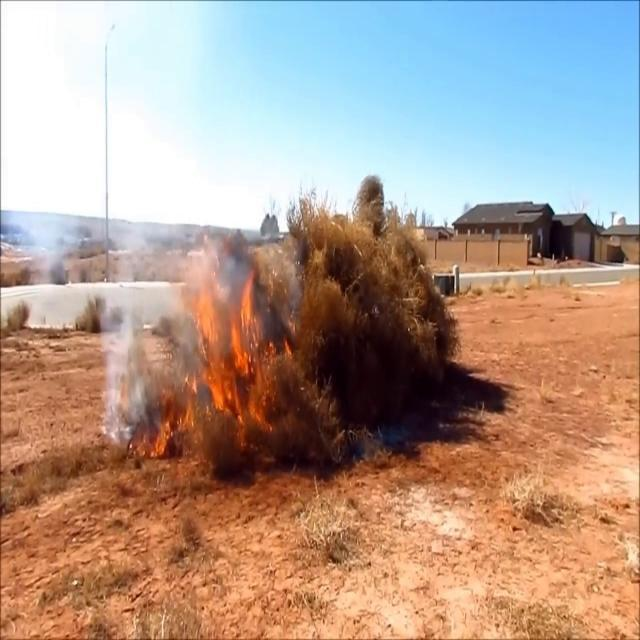Fire: (184, 252, 290, 441)
Smoke: (82, 228, 166, 456)
